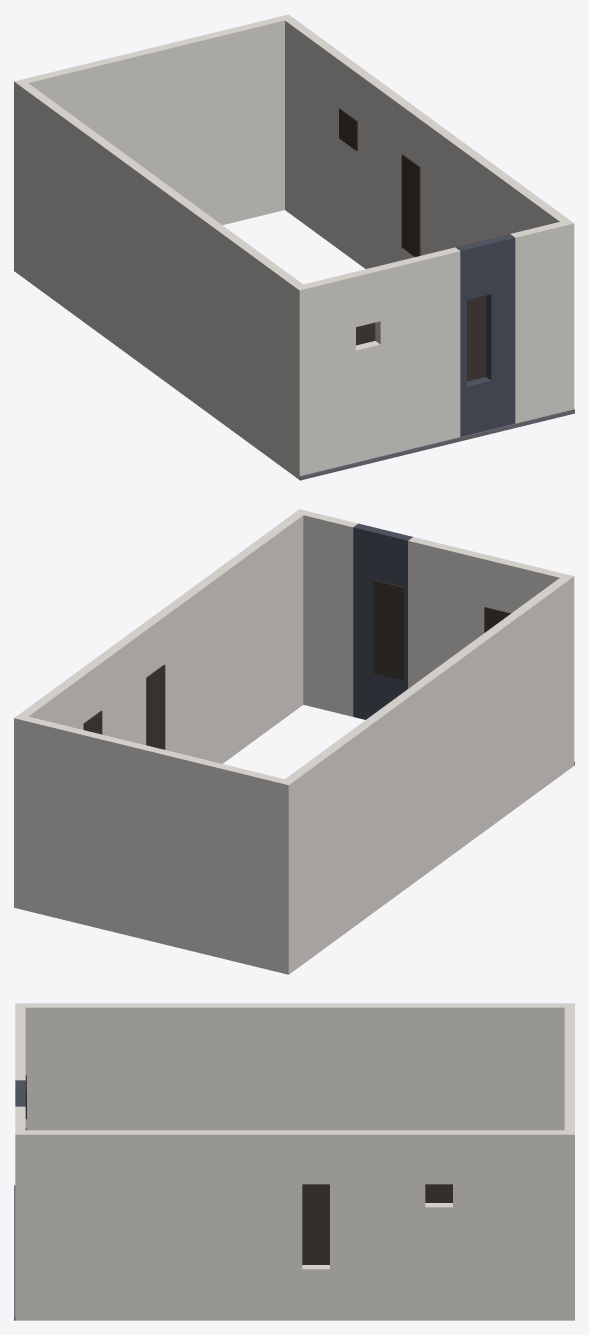
File: SM_Floor_NarrowUpperScatterHighEndR_White_455_01.gltf
3 views of the same model, one above another, from view 1: azimuth 30°, elevation 25°; view 2: azimuth 150°, elevation 25°; view 3: azimuth 270°, elevation 25° (orthographic). The views are drawn at different scales.
Parts seen in each view (by area): view 1: SM_Floor_NarrowUpperScatterHighEndR_White_455_01; view 2: SM_Floor_NarrowUpperScatterHighEndR_White_455_01; view 3: SM_Floor_NarrowUpperScatterHighEndR_White_455_01.
Part boxes in pixels (<box>): SM_Floor_NarrowUpperScatterHighEndR_White_455_01: <box>14,14,574,480</box>; SM_Floor_NarrowUpperScatterHighEndR_White_455_01: <box>14,509,574,974</box>; SM_Floor_NarrowUpperScatterHighEndR_White_455_01: <box>14,1003,574,1320</box>.
Size of the model in its own units: 4.55 by 3 by 8.21.
Materials: 1 (1 with a texture image).
